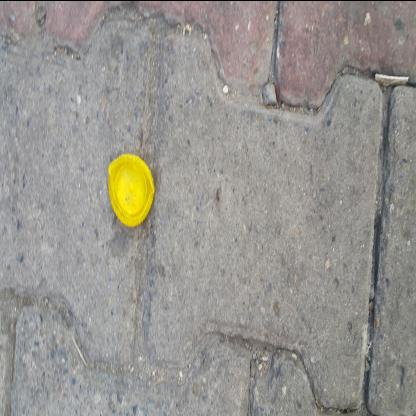plastik: (152, 260, 228, 308)
